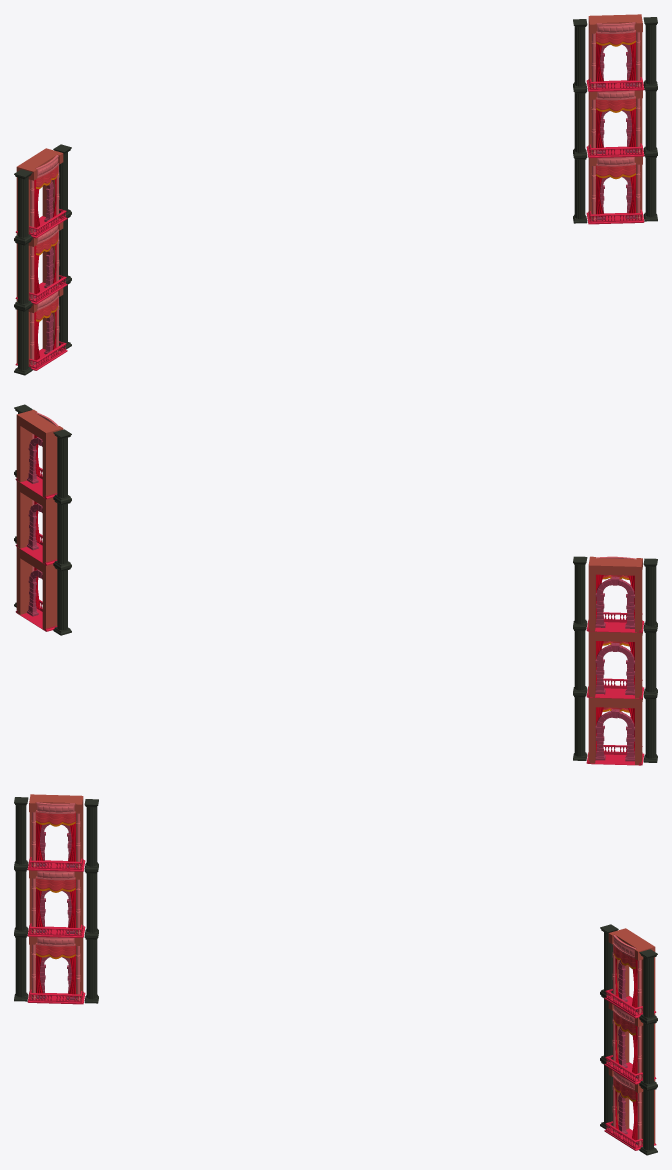
File: Balcony_Mesh.fbx
The picture shows the model from 3 angles, top to bottom: view 1: azimuth 30°, elevation 25°; view 2: azimuth 150°, elevation 25°; view 3: azimuth 330°, elevation 25°; orthographic projection.
Visible parts, largest first — view 1: Balcony_Mesh; view 2: Balcony_Mesh; view 3: Balcony_Mesh.
Boxes of the visible parts, x1,y1,x2,y2 form: Balcony_Mesh: [14, 14, 657, 375]; Balcony_Mesh: [14, 404, 657, 765]; Balcony_Mesh: [14, 794, 657, 1155].
Bounding box in the file's own units: 6504 × 1920 × 433.
